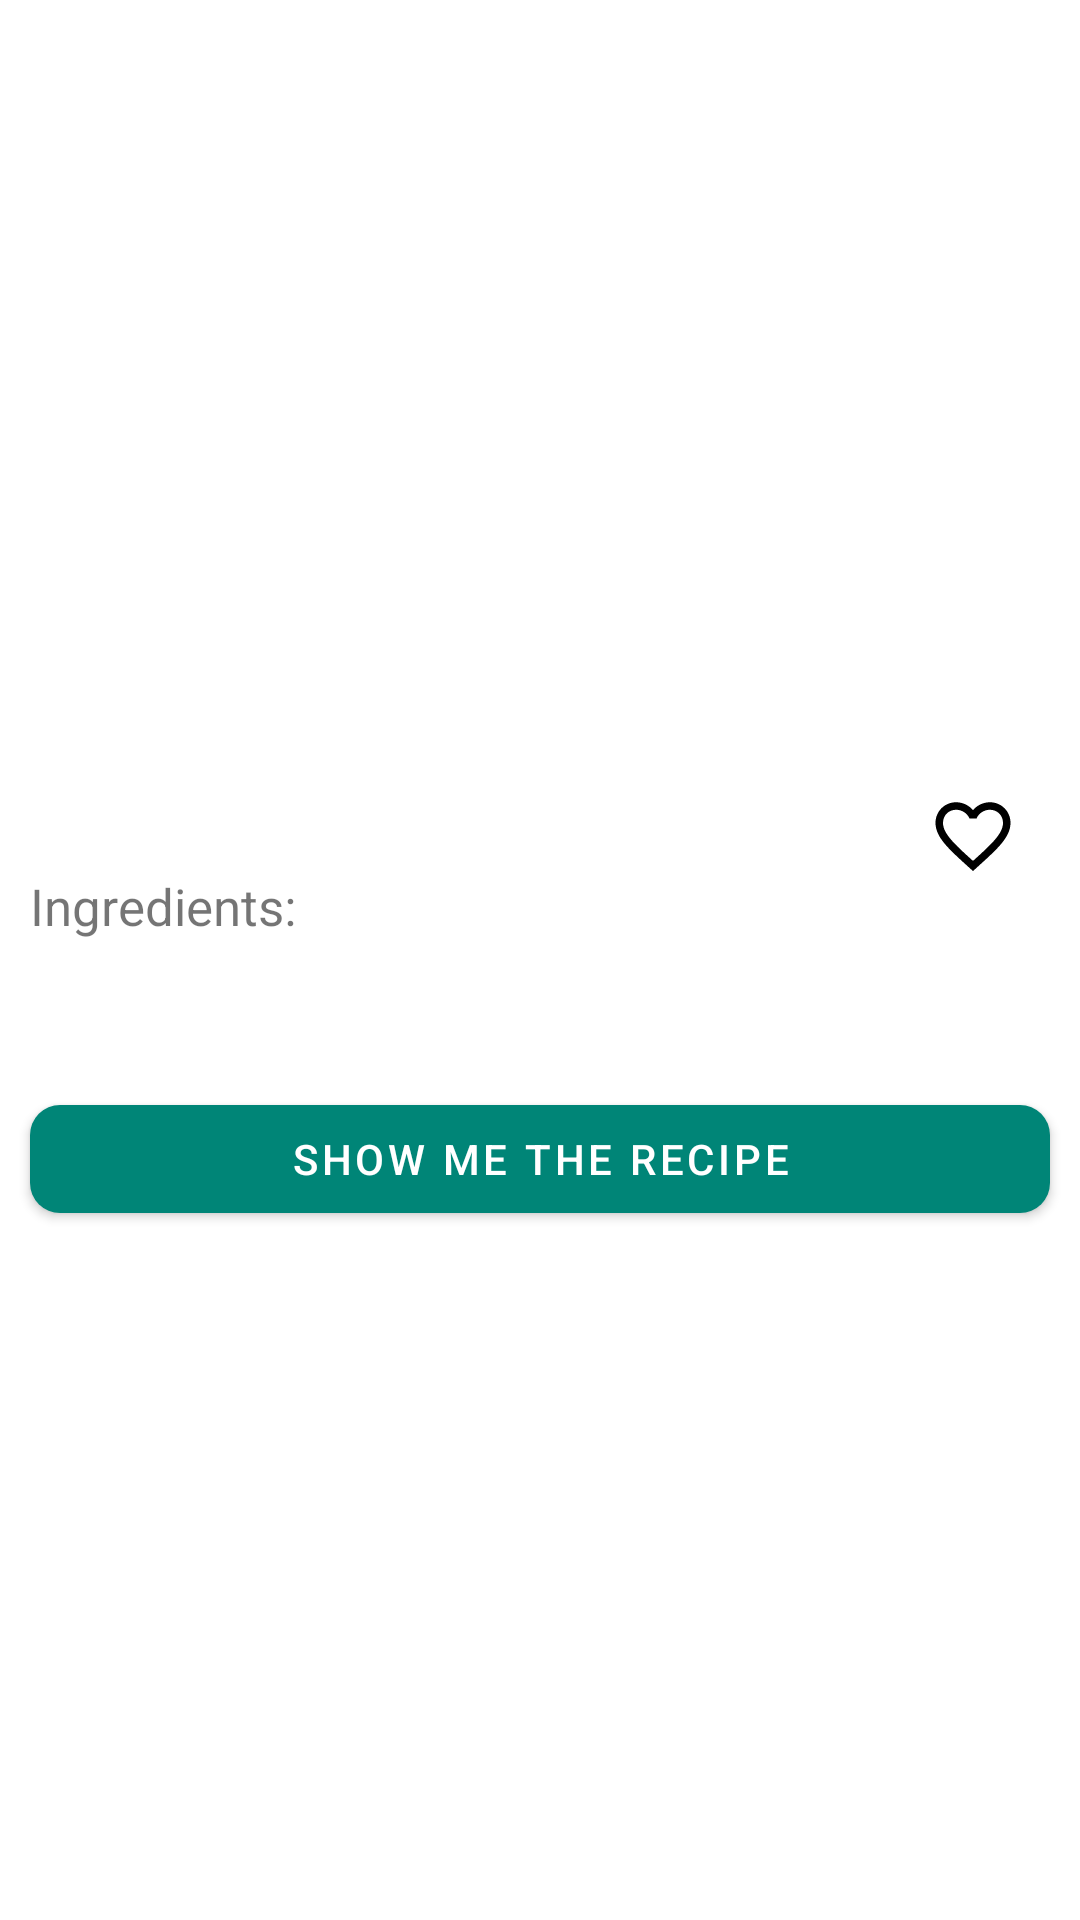

Where icons sit on this 1080*1920 app screen, as bbox=[x1, y1, x2, y2]:
favoriteborder: bbox=[935, 802, 1011, 871]
